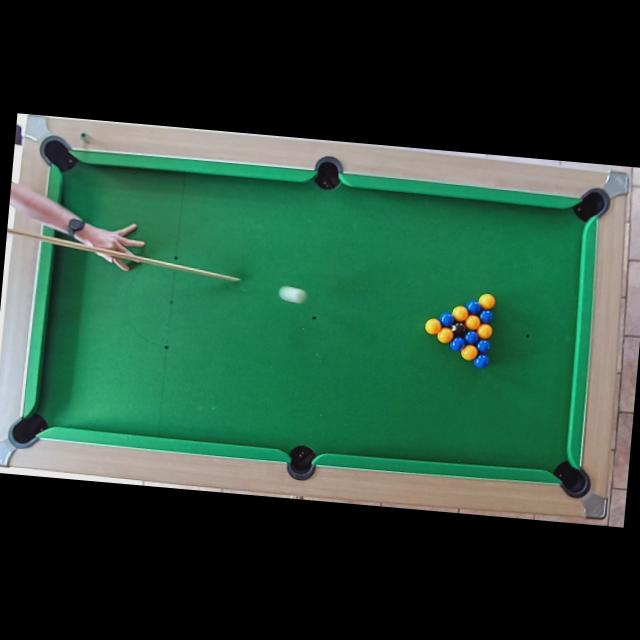Ball: (450, 304, 468, 322), (460, 344, 478, 361), (478, 293, 496, 310), (436, 327, 454, 343), (425, 318, 441, 334), (472, 352, 488, 368), (290, 288, 306, 304), (465, 314, 480, 330), (464, 300, 480, 315), (449, 336, 464, 352), (451, 321, 466, 337), (477, 324, 492, 339), (476, 339, 491, 354), (438, 312, 453, 326), (479, 309, 493, 324), (464, 330, 478, 344)
